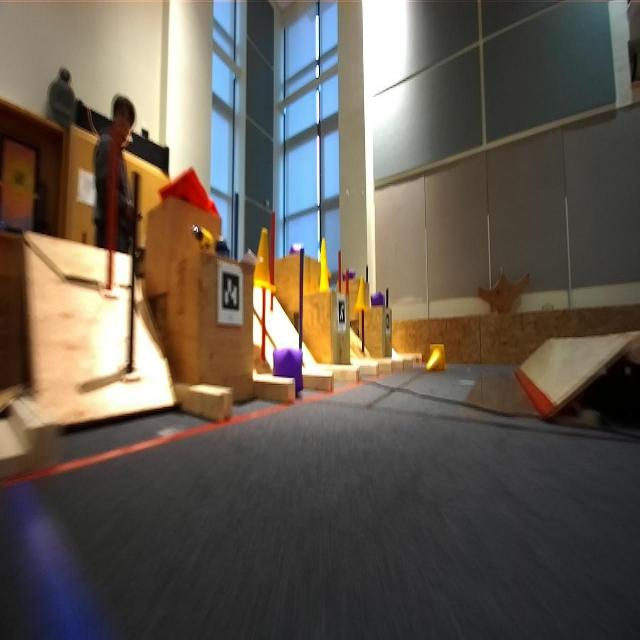frc_cone: (250, 227, 276, 289), (318, 238, 335, 289), (424, 344, 451, 376), (355, 274, 371, 314), (316, 236, 330, 279)
frc_cube: (274, 343, 302, 381), (372, 289, 386, 309), (342, 269, 356, 280)
